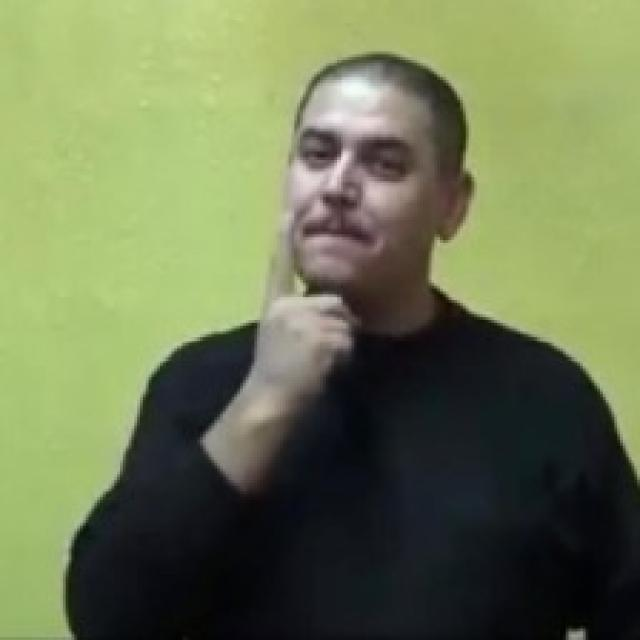mother: (247, 205, 364, 404)
